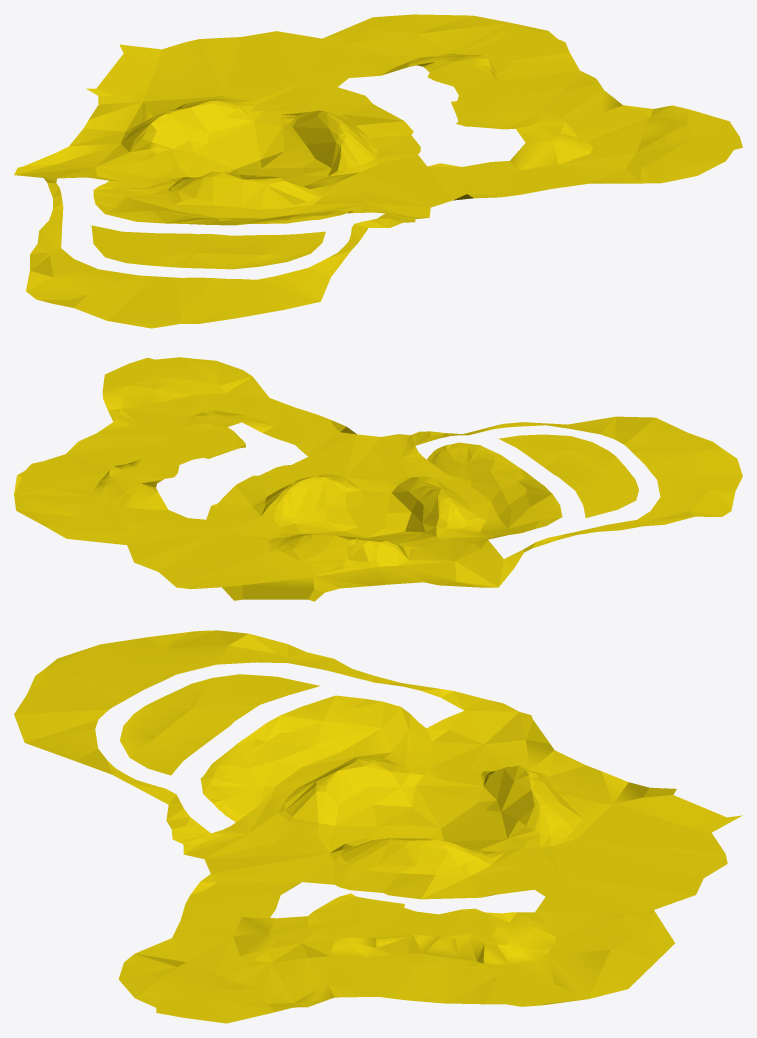
Rendered from sandFloor.fbx.
The picture shows the model from 3 angles, top to bottom: view 1: azimuth 30°, elevation 25°; view 2: azimuth 150°, elevation 25°; view 3: azimuth 270°, elevation 25°; orthographic projection. The views are drawn at different scales.
Visible parts, largest first — view 1: Mesh1; view 2: Mesh1; view 3: Mesh1.
Boxes of the visible parts, x1,y1,x2,y2 form: Mesh1: [14, 14, 742, 328]; Mesh1: [14, 357, 742, 601]; Mesh1: [14, 630, 742, 1023].
Size of the model in its own units: 662 by 31.03 by 527.
